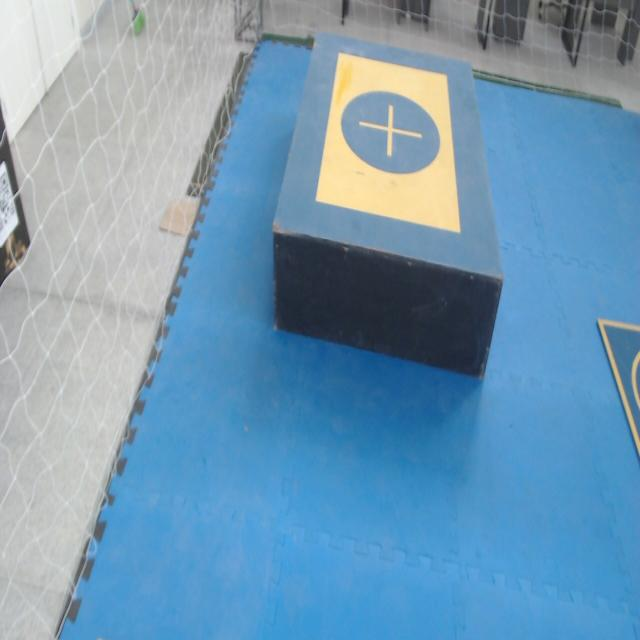base_inicio: (315, 51, 462, 233)
base_pouso: (594, 316, 640, 462)
